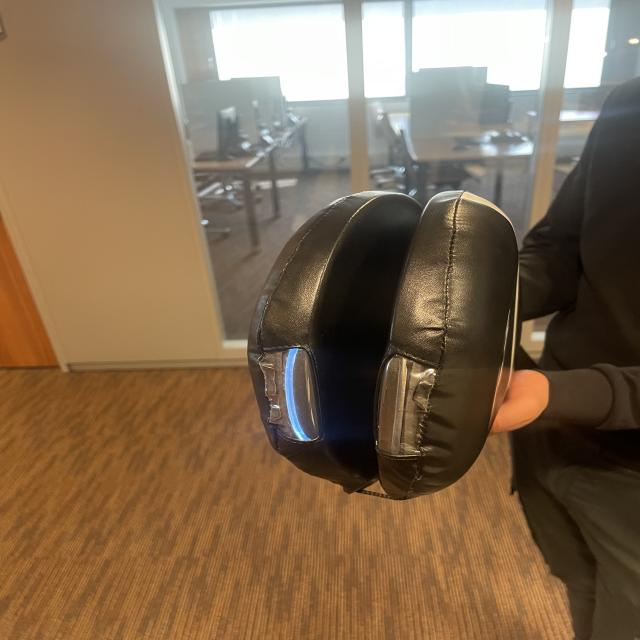paddle: (262, 191, 514, 496)
trigger: (277, 342, 319, 443)
